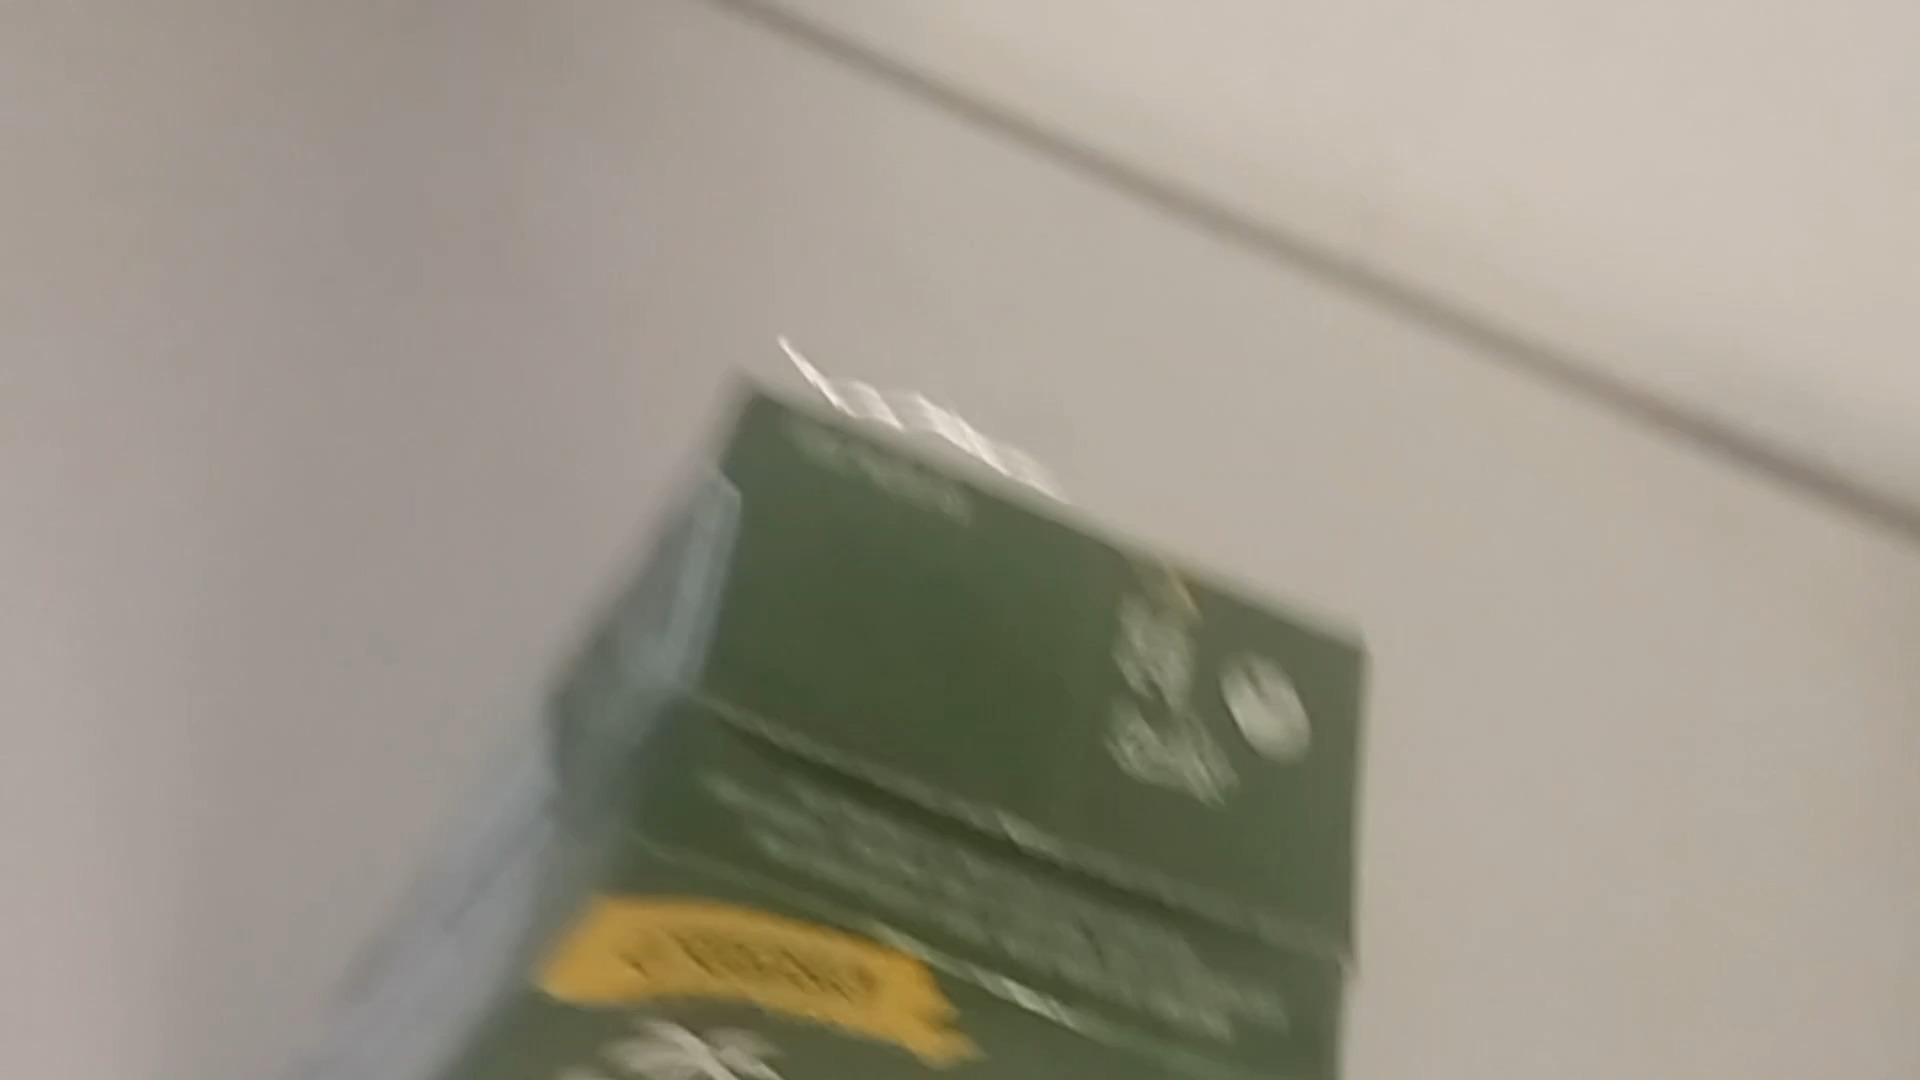coco: (338, 385, 1379, 1080)
